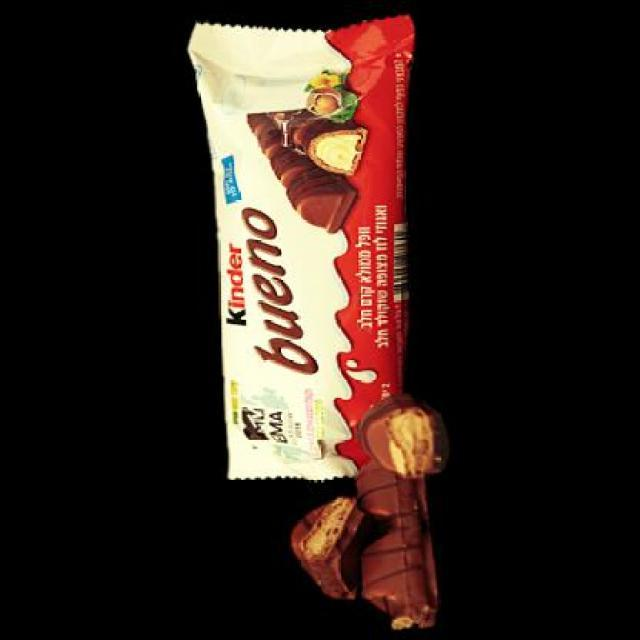Chocolate bar: (185, 16, 424, 478)
Chocolate bar packaged: (357, 472, 441, 632), (290, 496, 362, 608), (352, 392, 440, 482)
